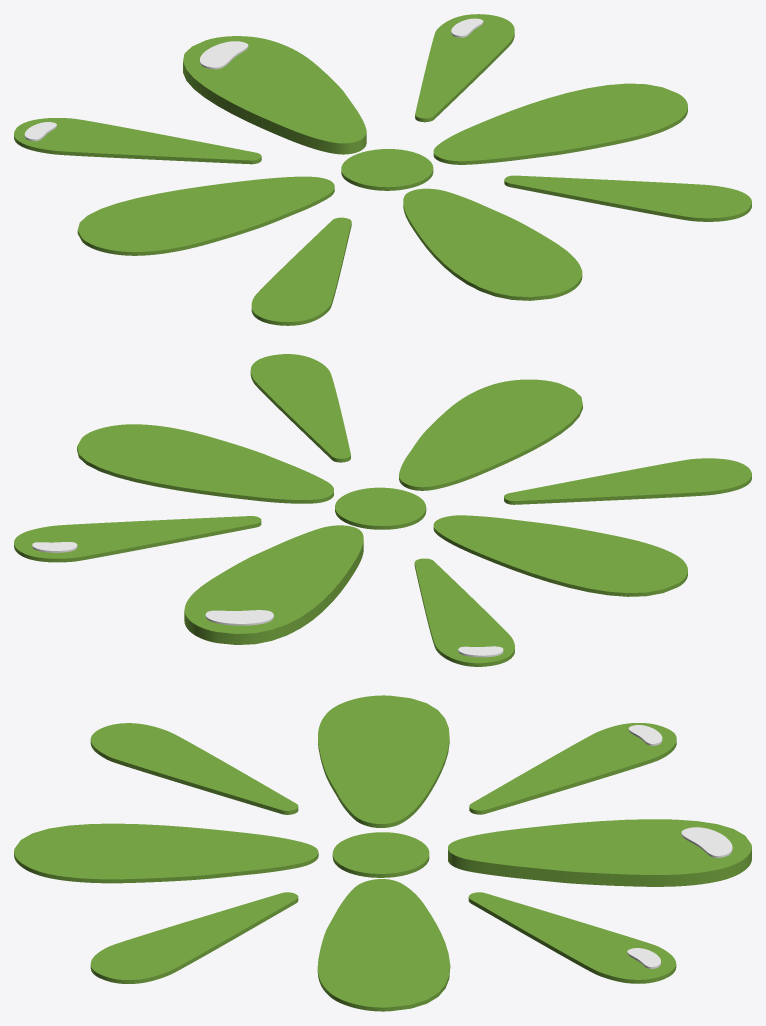
The model's file is emoji_u2747.glb.
3 renders of one model, top to bottom at view 1: azimuth 30°, elevation 25°; view 2: azimuth 150°, elevation 25°; view 3: azimuth 270°, elevation 25°, orthographic. The views are drawn at different scales.
Visible parts, largest first — view 1: emoji_u2747; view 2: emoji_u2747; view 3: emoji_u2747.
Boxes of the visible parts, x1,y1,x2,y2 form: emoji_u2747: (14,14,751,325); emoji_u2747: (14,354,751,666); emoji_u2747: (14,695,751,1011).
Size of the model in its own units: 0.0339 by 0.0008 by 0.0338.
